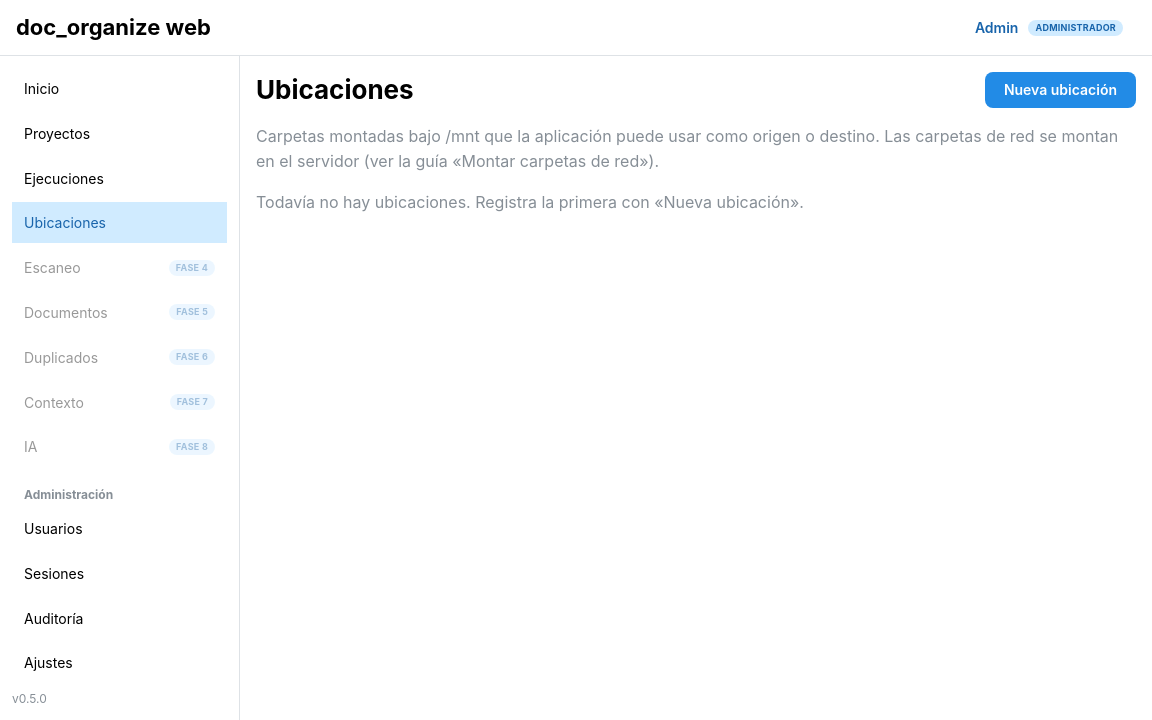
Test: LocationsPage › no deja registrar sin elegir carpeta
The image size is (1152, 720).
Click the button "Nueva ubicación": [1060, 90] box [985, 72, 1136, 108]
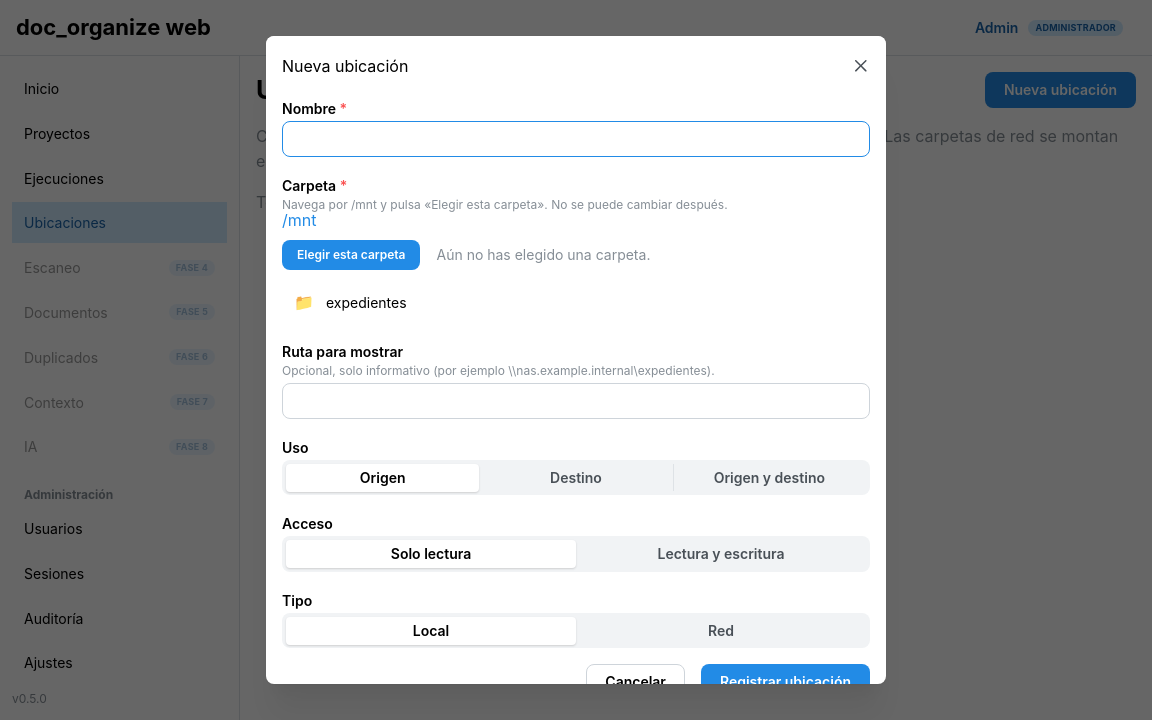
In the field labelled "Nombre *": [576, 139] box [282, 121, 870, 157], type "Sin carpeta"
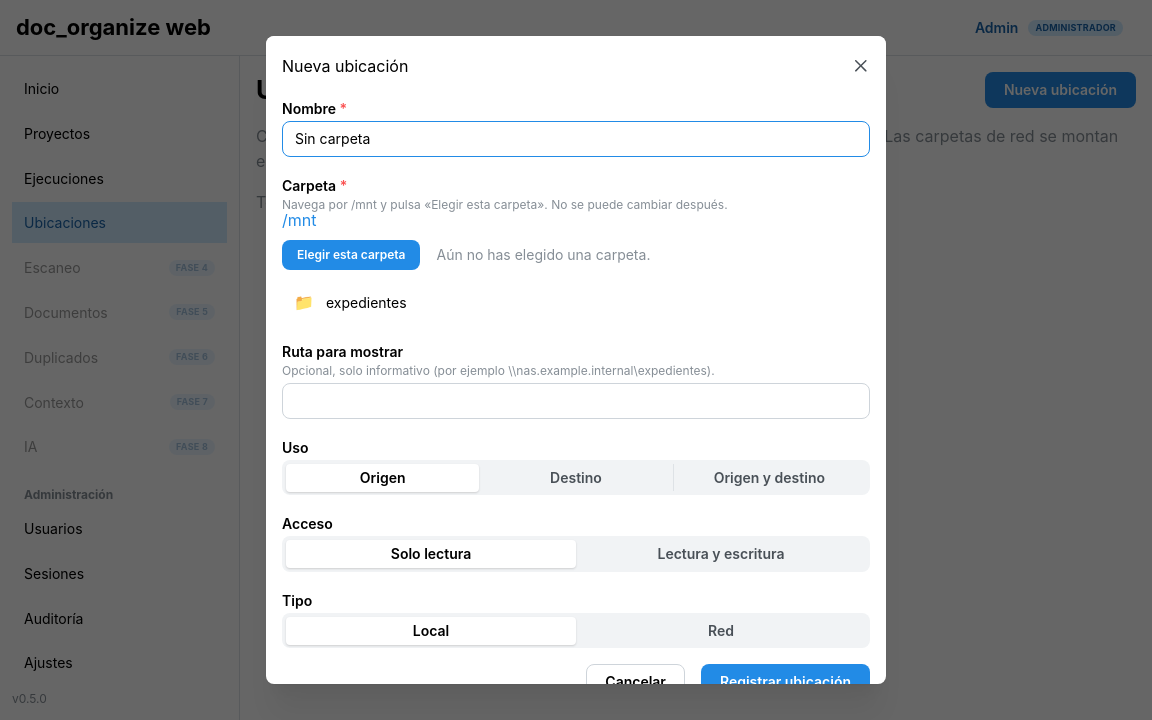
Click the button "Registrar ubicación": [785, 682] box [701, 664, 870, 700]
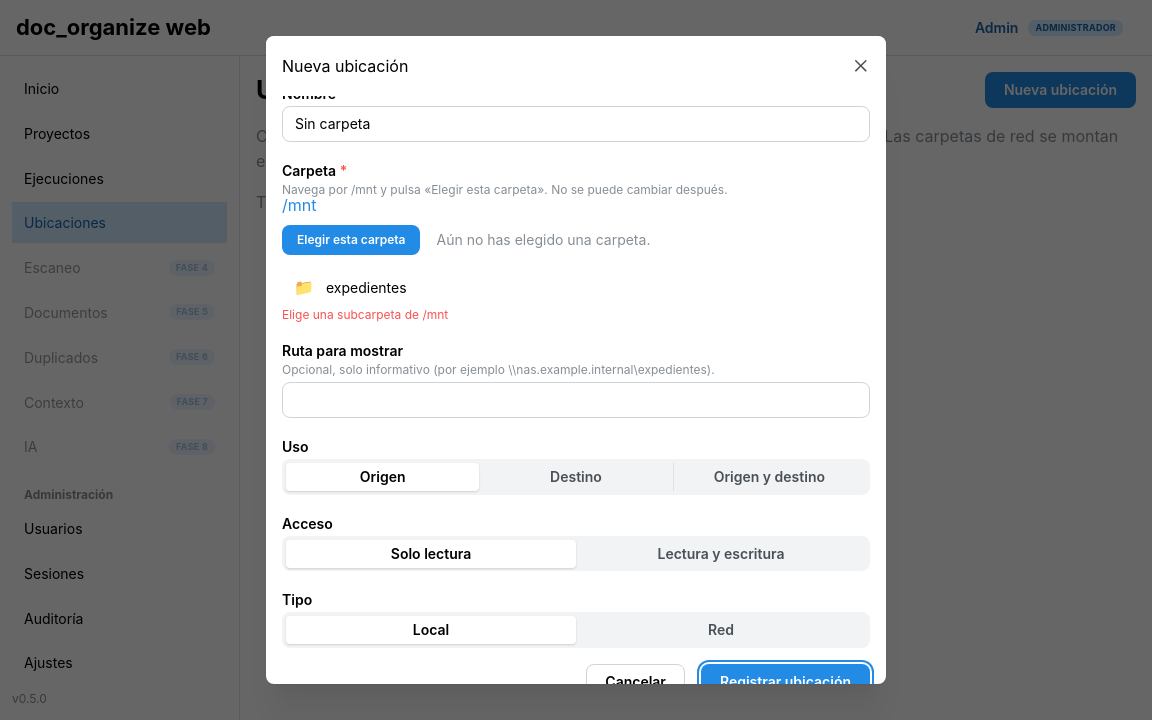
expect the text "Elige una subcarpeta de /mnt" is shown: met, box [282, 307, 448, 322]
